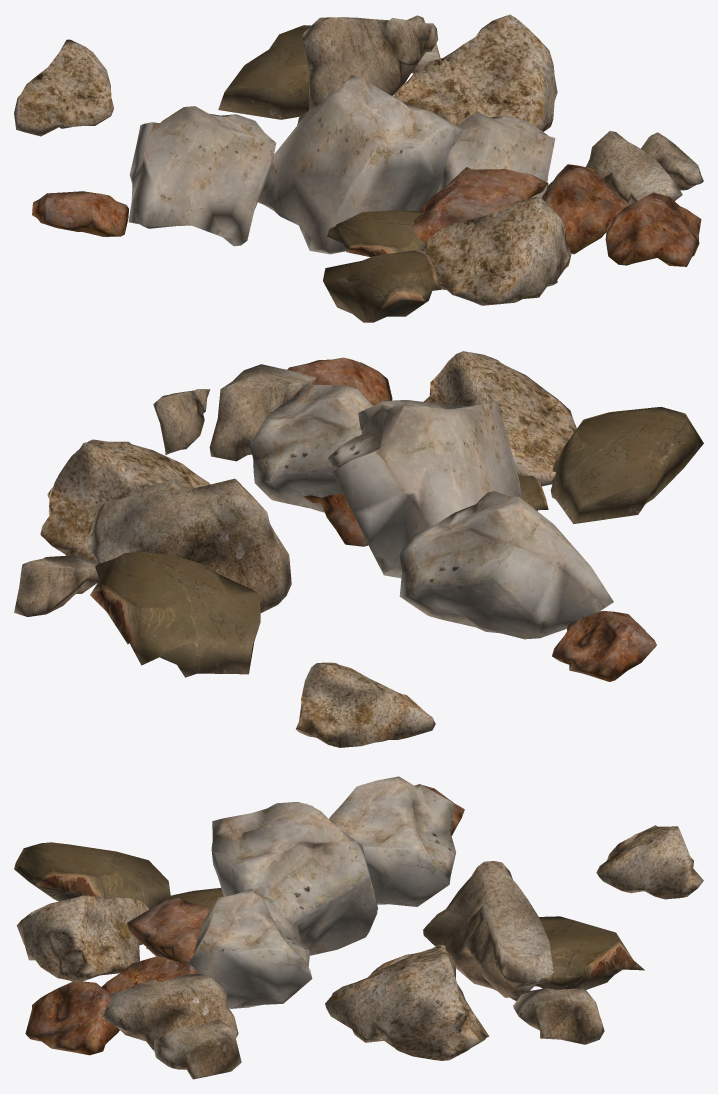
Rendered from rubble-stones.glb.
3 renders of one model, top to bottom at view 1: azimuth 30°, elevation 25°; view 2: azimuth 150°, elevation 25°; view 3: azimuth 270°, elevation 25°, orthographic. The views are drawn at different scales.
Visible parts, largest first — view 1: stone0; view 2: stone0; view 3: stone0.
Part boxes in pixels (left/top/right/bottom): stone0: left=14, top=14, right=703, bottom=322; stone0: left=14, top=351, right=703, bottom=747; stone0: left=14, top=776, right=703, bottom=1079.
Bounding box in the file's own units: 1.64 × 0.4306 × 1.79.
Materials: 1 (1 with a texture image).
